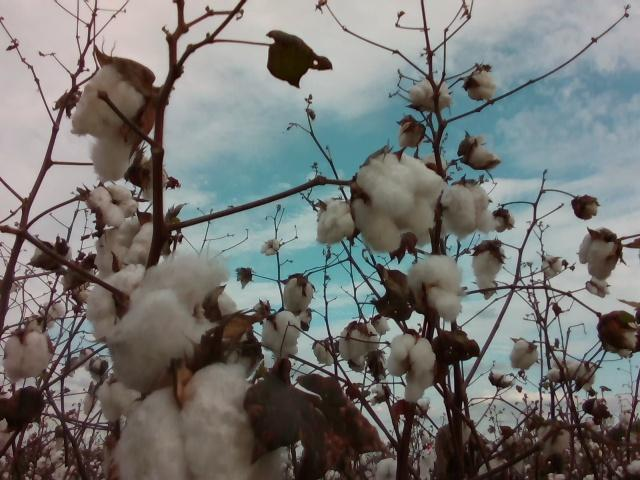cotton_ready: (117, 362, 287, 480), (87, 251, 229, 386), (351, 150, 446, 254), (72, 61, 145, 180), (407, 257, 464, 322), (385, 333, 436, 402), (192, 290, 249, 343), (441, 183, 493, 239), (2, 330, 50, 383), (89, 184, 139, 229), (106, 220, 156, 264), (98, 379, 146, 422), (579, 230, 618, 278), (262, 310, 299, 358), (316, 201, 355, 244), (547, 357, 596, 391), (472, 241, 503, 291), (339, 322, 380, 359), (410, 79, 454, 112), (459, 137, 502, 169), (97, 233, 124, 281), (604, 320, 637, 359), (31, 240, 71, 271), (283, 277, 315, 312), (539, 425, 571, 455), (467, 70, 496, 99), (510, 339, 538, 369), (398, 119, 425, 149), (0, 418, 16, 453), (375, 457, 399, 480)
